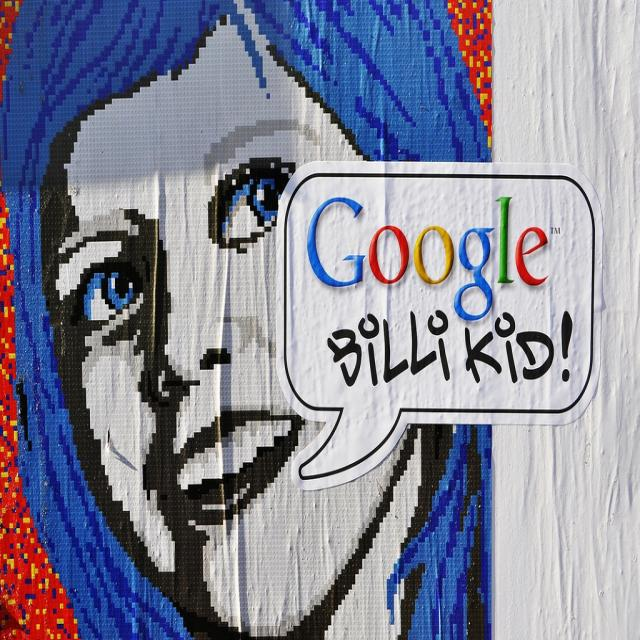google: (306, 191, 559, 325)
